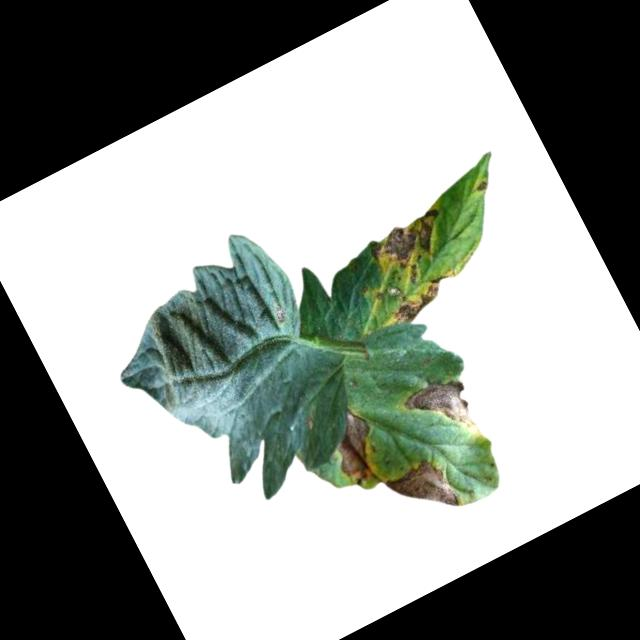Early_blight: (362, 198, 465, 295), (400, 365, 488, 454), (315, 399, 394, 492), (382, 450, 465, 532), (384, 272, 454, 328), (266, 299, 292, 328), (471, 175, 492, 194)
